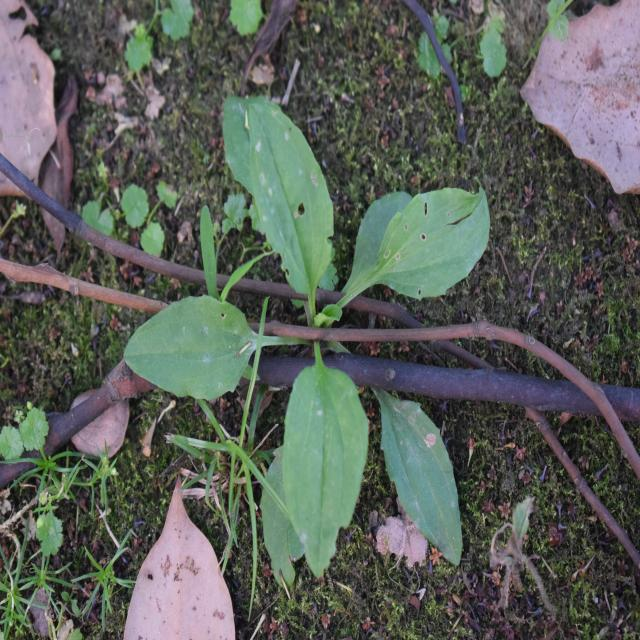plantain: (152, 90, 489, 570)
